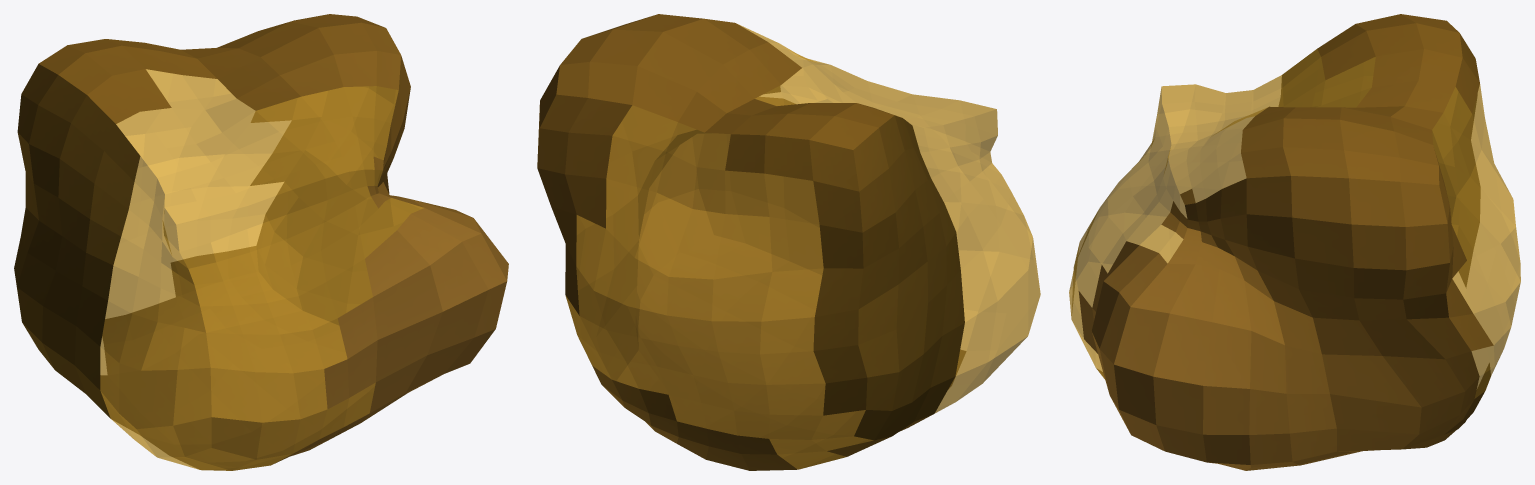
File: Wood3.glb
The picture shows the model from 3 angles, left to right: view 1: azimuth 30°, elevation 25°; view 2: azimuth 150°, elevation 25°; view 3: azimuth 270°, elevation 25°; orthographic projection. The views are drawn at different scales.
Visible parts, largest first — view 1: Wood3; view 2: Wood3; view 3: Wood3.
Part boxes in pixels (left/top/right/bottom): Wood3: left=14, top=14, right=508, bottom=470; Wood3: left=537, top=14, right=1040, bottom=470; Wood3: left=1069, top=14, right=1520, bottom=470.
Bounding box in the file's own units: 1.23 × 1.18 × 1.26.
2 materials, 1 textured.
